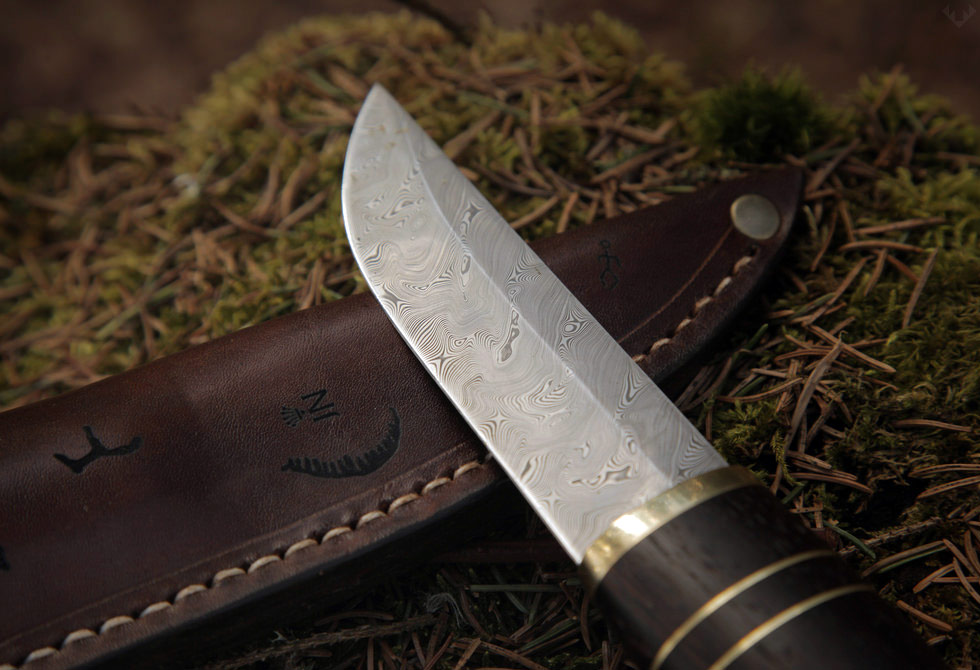knief: (317, 79, 884, 622)
